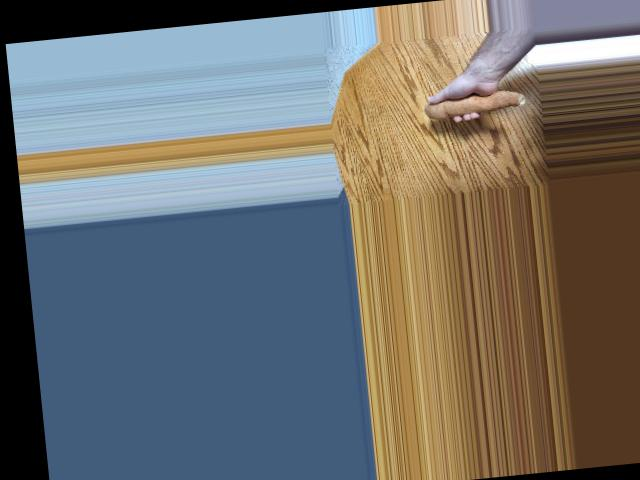sweet_potato: (415, 81, 528, 125)
